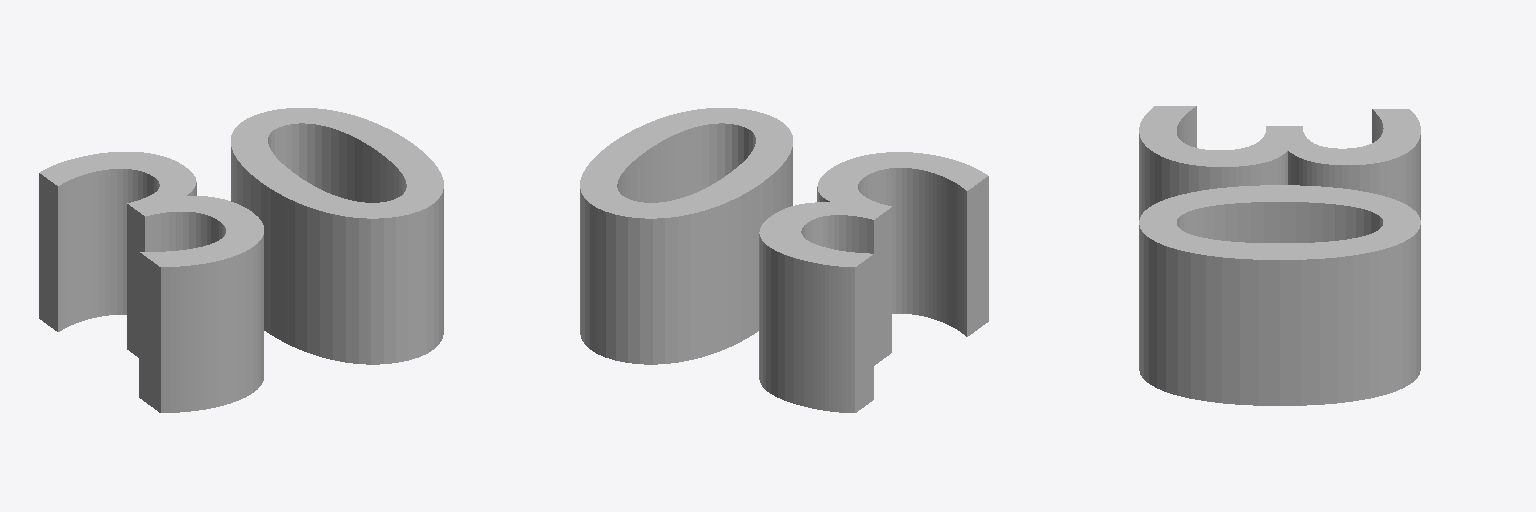
The model's file is date_30.obj.
3 renders of one model, left to right at view 1: azimuth 30°, elevation 25°; view 2: azimuth 150°, elevation 25°; view 3: azimuth 270°, elevation 25°, orthographic.
Parts seen in each view (by area): view 1: Text; view 2: Text; view 3: Text.
Part boxes in pixels (left/top/right/bottom): Text: left=39, top=108, right=443, bottom=412; Text: left=580, top=108, right=988, bottom=412; Text: left=1139, top=106, right=1420, bottom=405.
Bounding box in the file's own units: 0.906 × 0.4 × 0.7.